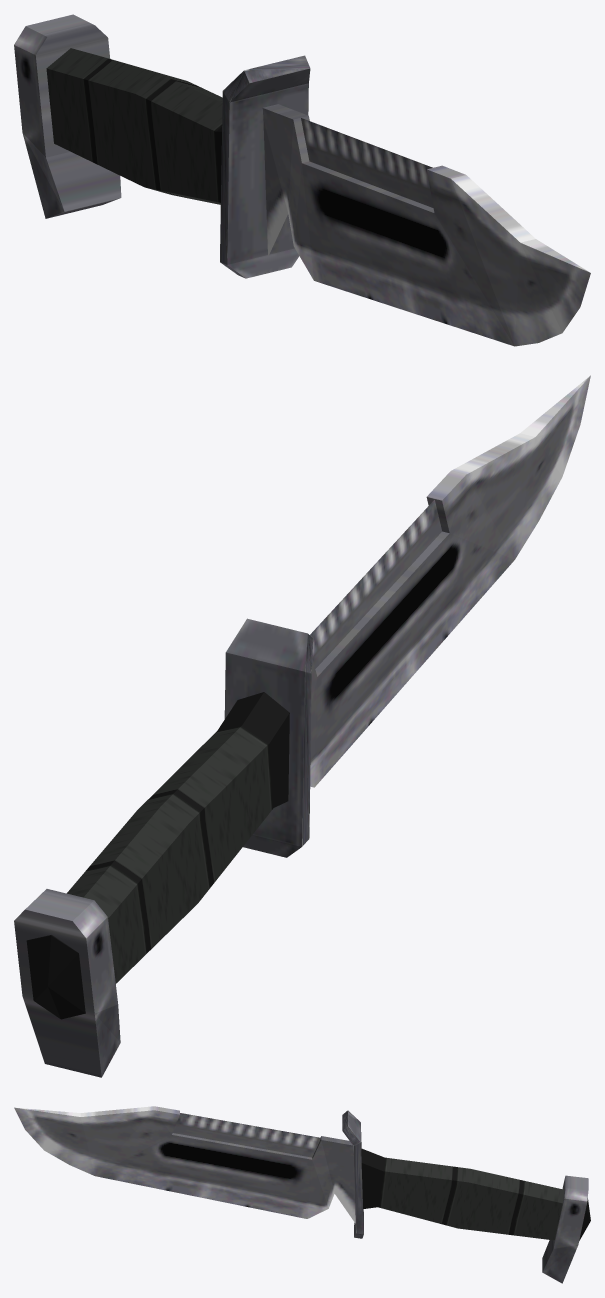
Rendered from P_Knife.fbx.
3 renders of one model, top to bottom at view 1: azimuth 30°, elevation 25°; view 2: azimuth 150°, elevation 25°; view 3: azimuth 270°, elevation 25°, orthographic. The views are drawn at different scales.
Visible parts, largest first — view 1: Mesh1; view 2: Mesh1; view 3: Mesh1.
Boxes of the visible parts, left/top/right/bottom form: Mesh1: left=14, top=14, right=590, bottom=346; Mesh1: left=14, top=375, right=590, bottom=1077; Mesh1: left=14, top=1106, right=590, bottom=1283.
Bounding box in the file's own units: 1.38 × 5.29 × 16.42.
Materials: 1 (1 with a texture image).
